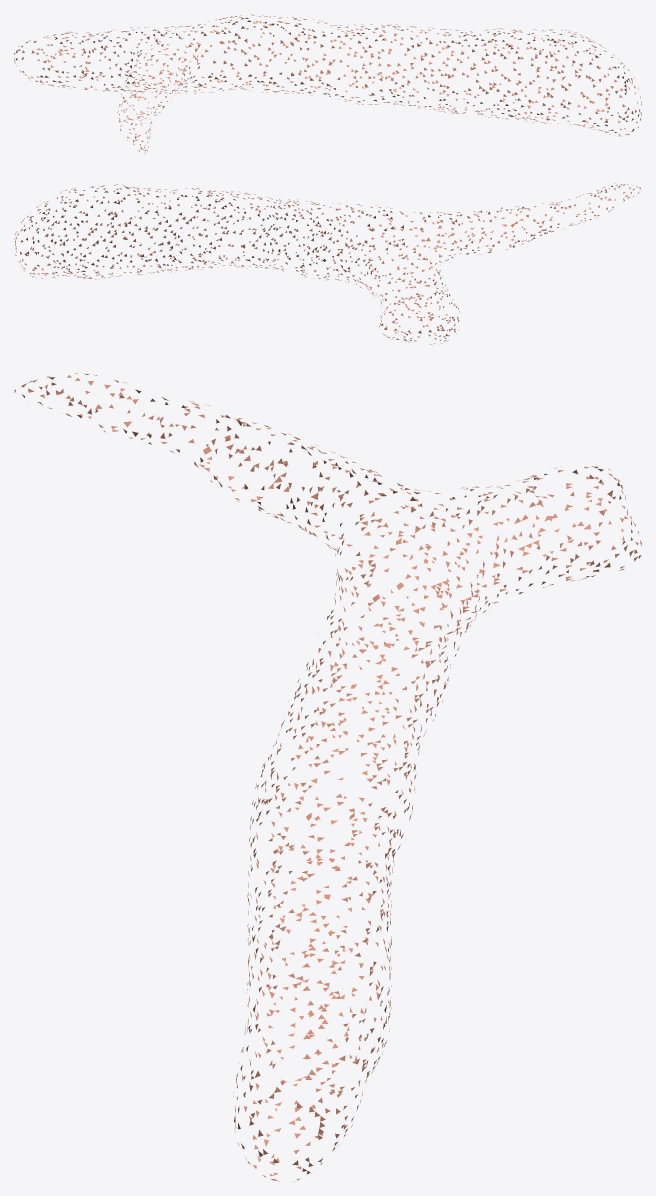
The model's file is morph_003.glb.
The picture shows the model from 3 angles, top to bottom: view 1: azimuth 30°, elevation 25°; view 2: azimuth 150°, elevation 25°; view 3: azimuth 270°, elevation 25°; orthographic projection. The views are drawn at different scales.
Bounding box in the file's own units: 120 × 37.29 × 64.08.
